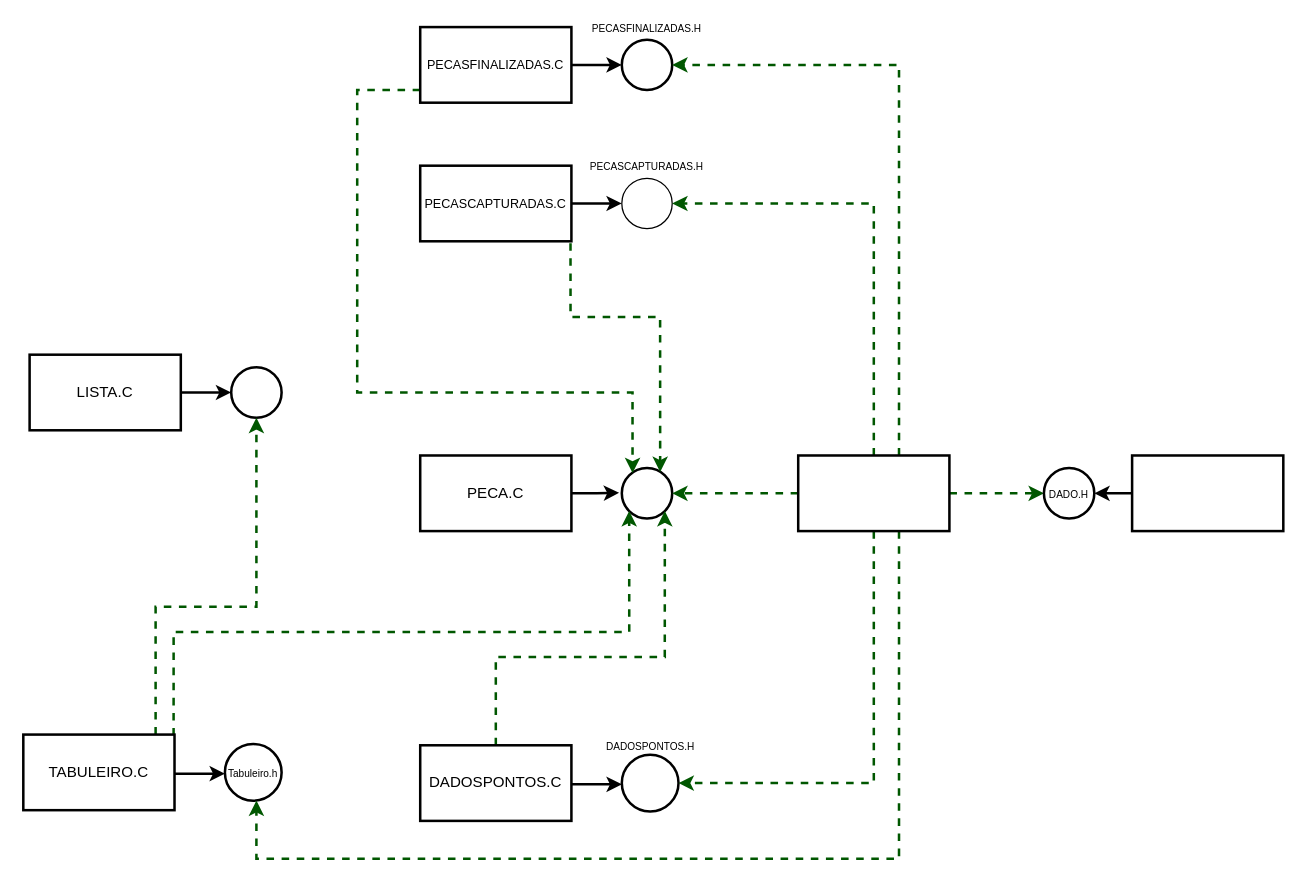
Some shapes in this 1305 by 892 pixel diagram are drawn without their labels. The centre of each missing label's shape, as x and y in pixels:
DADO.C: (1207,493)
JOGO.C: (873,493)
LISTA.H: (255,391)
PECA.H: (646,492)
